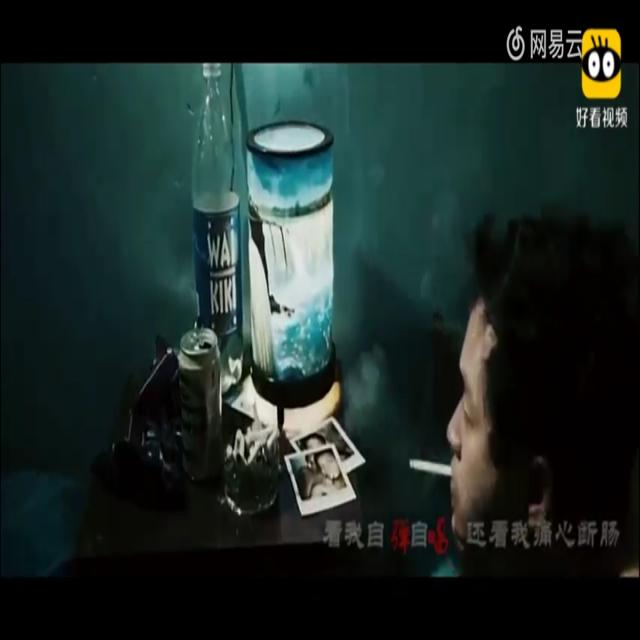smoke: (408, 451, 452, 481)
